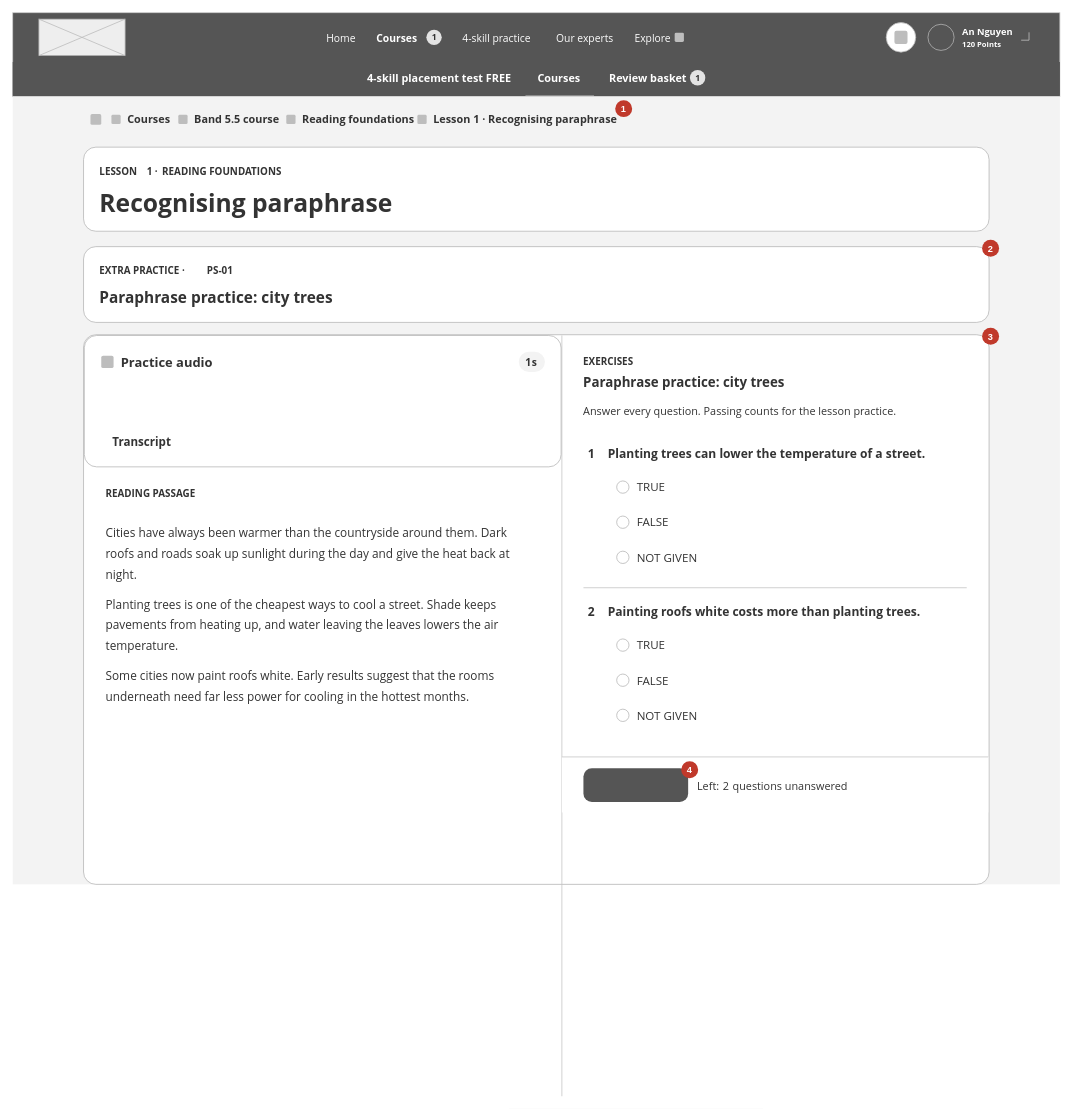
This 1073x1109 diagram has some shape labels left out. Here are the shapes that lost their labels. From the top down, the box of each, then its label:
(927, 23, 954, 50): AN
(583, 768, 688, 802): Submit
